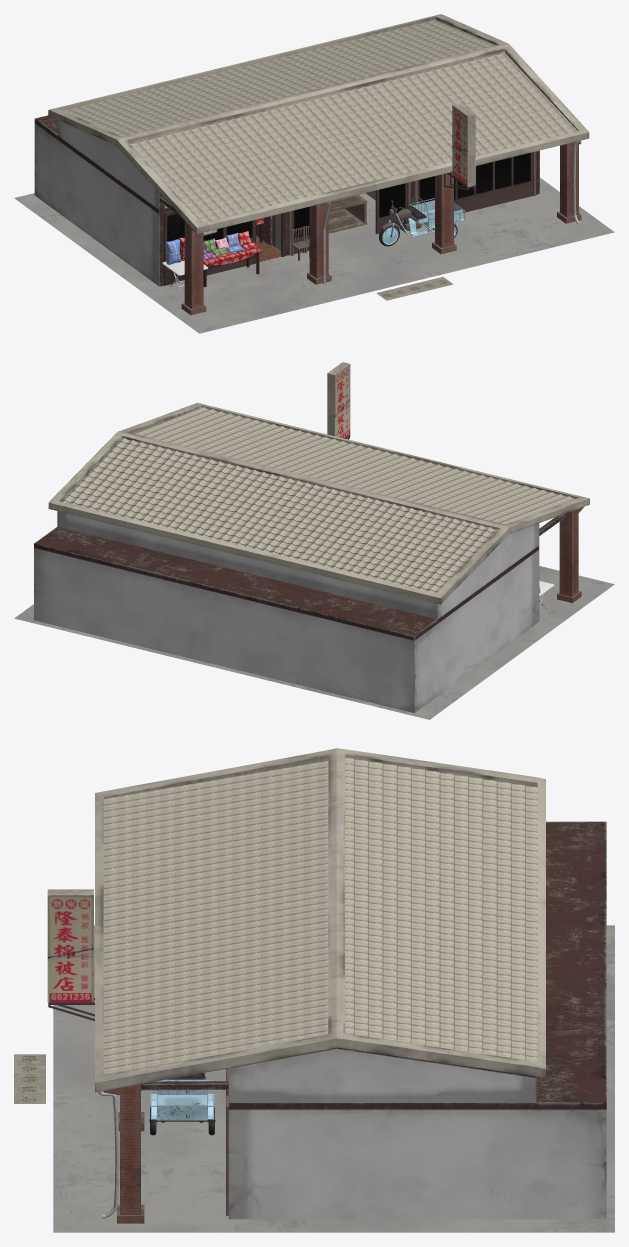
Rendered from jingliao-longtai.glb.
3 renders of one model, top to bottom at view 1: azimuth 30°, elevation 25°; view 2: azimuth 150°, elevation 25°; view 3: azimuth 270°, elevation 25°, orthographic. The views are drawn at different scales.
Visible parts, largest first — view 1: LongTai; view 2: LongTai; view 3: LongTai.
Part boxes in pixels (bbox=[...]): LongTai: bbox=[14, 14, 614, 333]; LongTai: bbox=[14, 362, 614, 719]; LongTai: bbox=[14, 748, 614, 1232].
Bounding box in the file's own units: 17.92 × 6.38 × 14.82.
3 materials, 3 textured.
